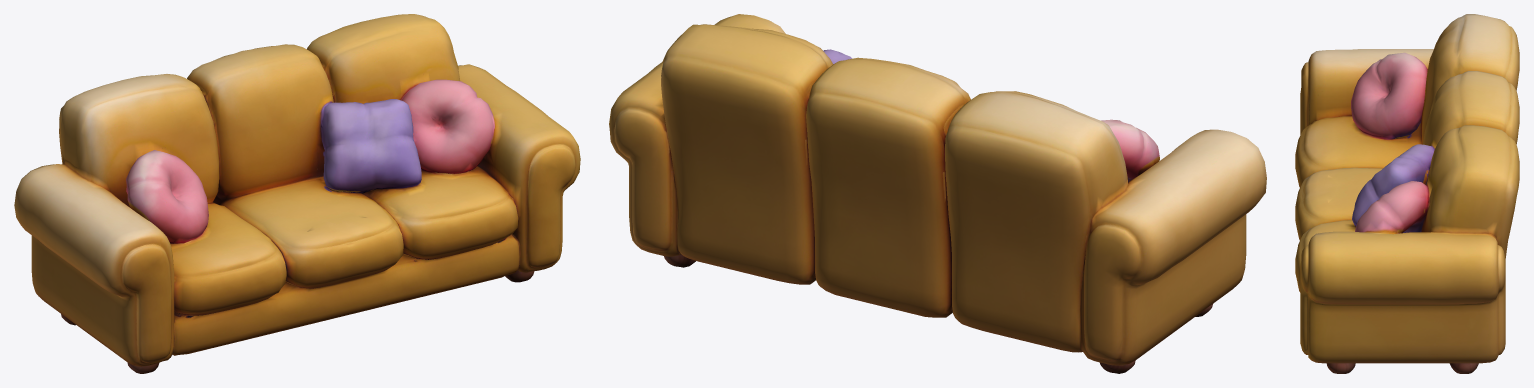
Rendered from kanepe.glb.
3 views of the same model, side by side, from view 1: azimuth 30°, elevation 25°; view 2: azimuth 150°, elevation 25°; view 3: azimuth 270°, elevation 25° (orthographic). The views are drawn at different scales.
Parts seen in each view (by area): view 1: tripo_node_45abfc1c-cc74-4e9b-a22c-67f809009850; view 2: tripo_node_45abfc1c-cc74-4e9b-a22c-67f809009850; view 3: tripo_node_45abfc1c-cc74-4e9b-a22c-67f809009850.
Boxes of the visible parts, x1=… form: tripo_node_45abfc1c-cc74-4e9b-a22c-67f809009850: x1=14, y1=14, x2=580, y2=373; tripo_node_45abfc1c-cc74-4e9b-a22c-67f809009850: x1=609, y1=14, x2=1266, y2=373; tripo_node_45abfc1c-cc74-4e9b-a22c-67f809009850: x1=1295, y1=14, x2=1519, y2=373.
Size of the model in its own units: 0.9781 by 0.423 by 0.4307.
Materials: 1 (1 with a texture image).
